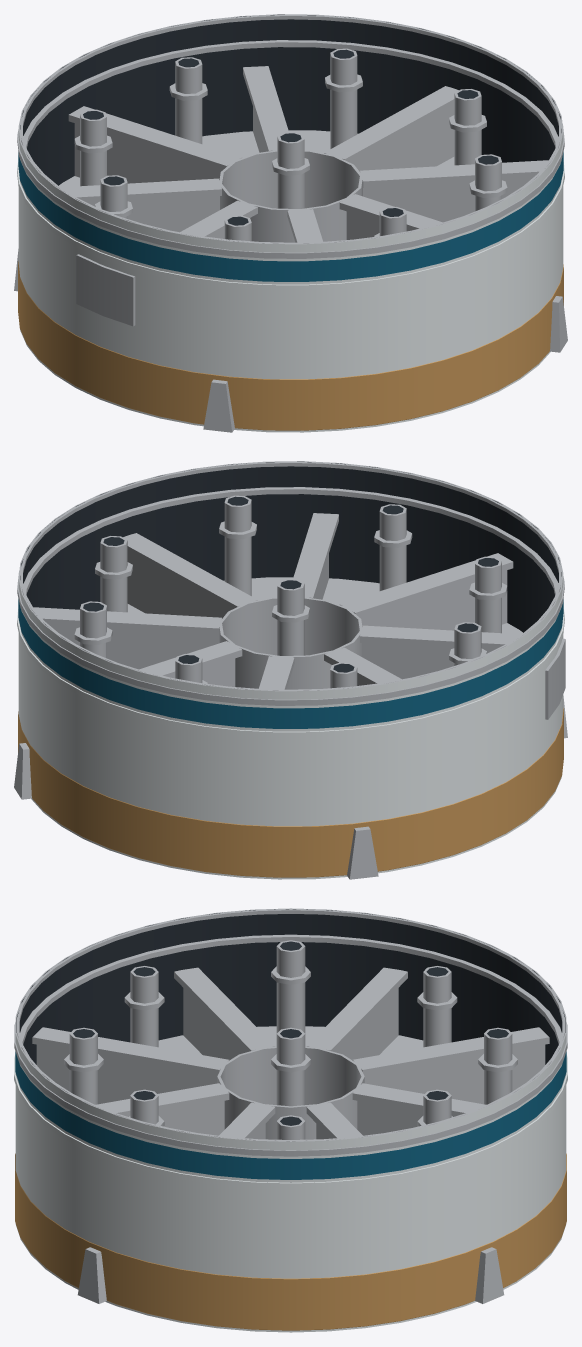
Rendered from mount_s1_9_d84.glb.
3 renders of one model, top to bottom at view 1: azimuth 30°, elevation 25°; view 2: azimuth 150°, elevation 25°; view 3: azimuth 270°, elevation 25°, orthographic.
Parts seen in each view (by area): view 1: mount_s1_9_d84_mesh; view 2: mount_s1_9_d84_mesh; view 3: mount_s1_9_d84_mesh.
Boxes of the visible parts, left/top/right/bottom form: mount_s1_9_d84_mesh: left=14, top=14, right=567, bottom=432; mount_s1_9_d84_mesh: left=14, top=461, right=567, bottom=879; mount_s1_9_d84_mesh: left=14, top=908, right=567, bottom=1332.
Bounding box in the file's own units: 8.45 × 3.2 × 8.43.
